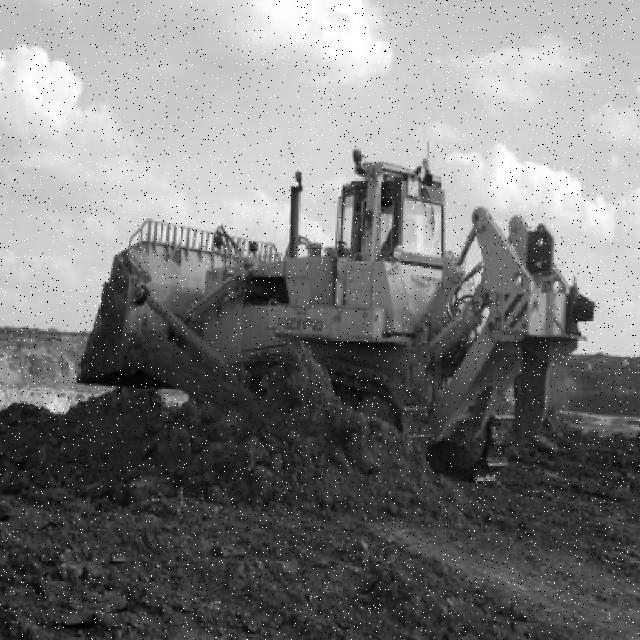Construction Equipment: (79, 148, 596, 480)
